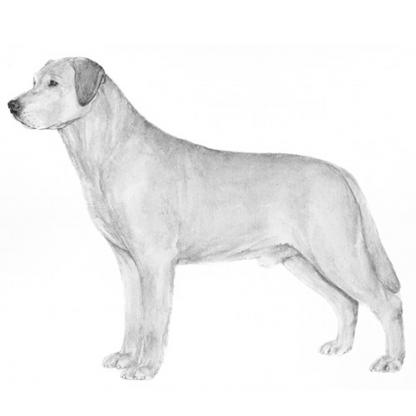dog: (5, 58, 408, 381)
